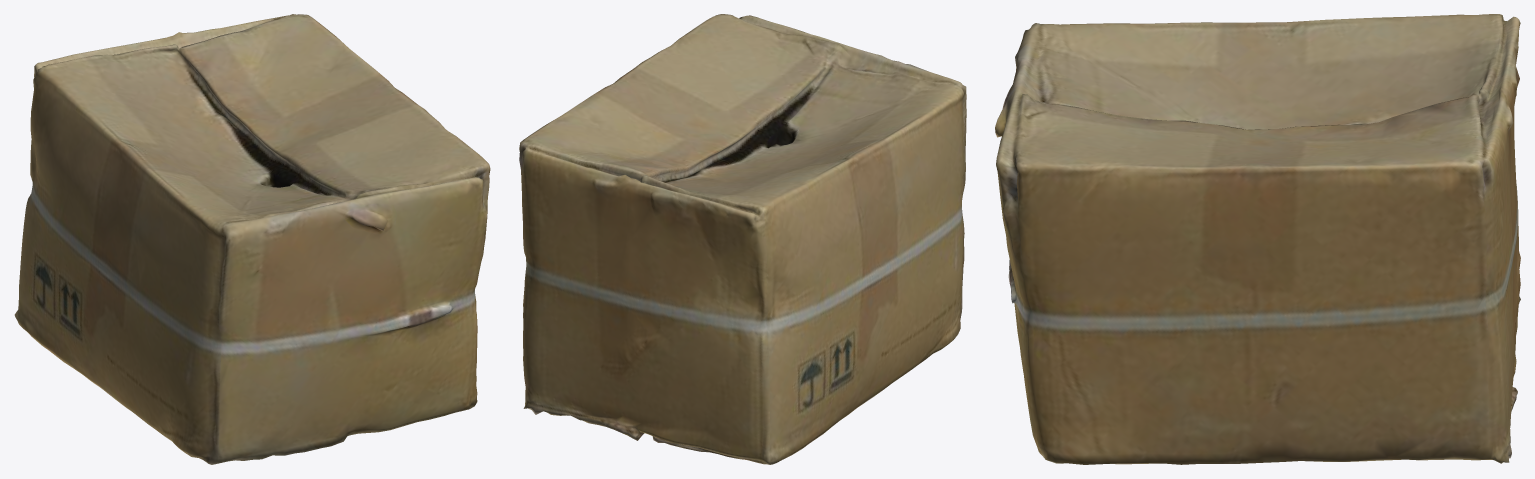
The model's file is cardboard_box_01.glb.
3 renders of one model, left to right at view 1: azimuth 30°, elevation 25°; view 2: azimuth 150°, elevation 25°; view 3: azimuth 270°, elevation 25°, orthographic. The views are drawn at different scales.
Size of the model in its own units: 0.3869 by 0.3418 by 0.5159.
Materials: 1 (1 with a texture image).
